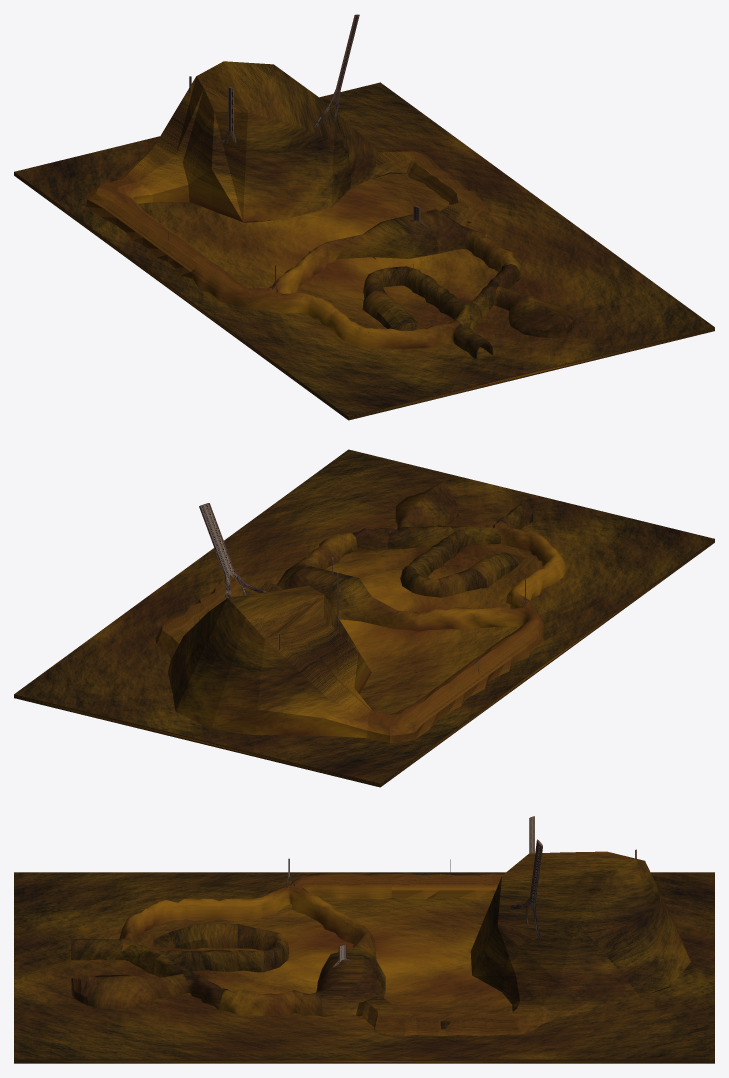
The model's file is grotlevel.FBX.
3 views of the same model, one above another, from view 1: azimuth 30°, elevation 25°; view 2: azimuth 150°, elevation 25°; view 3: azimuth 270°, elevation 25° (orthographic). The views are drawn at different scales.
Parts seen in each view (by area): view 1: grond, gangenstelsel, wortelroot; view 2: grond, gangenstelsel, wortelroot; view 3: grond, gangenstelsel, wortelroot.
Boxes of the visible parts, x1,y1,x2,y2 form: grond: (14, 82, 714, 420); gangenstelsel: (86, 61, 574, 358); wortelroot: (314, 14, 359, 127); grond: (14, 449, 714, 787); gangenstelsel: (155, 482, 566, 743); wortelroot: (199, 503, 266, 599); grond: (14, 872, 714, 1063); gangenstelsel: (71, 851, 690, 1036); wortelroot: (510, 839, 542, 940).
Bounding box in the file's own units: 13953 × 6853 × 22066.
